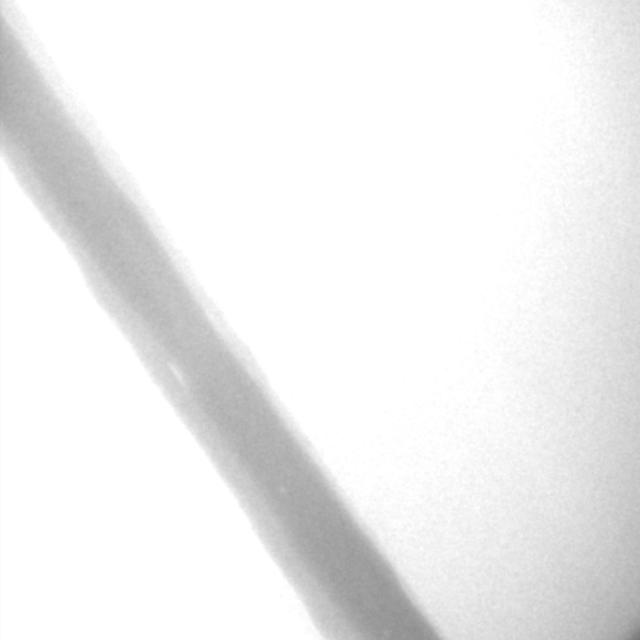air hole: (166, 361, 185, 385), (280, 484, 288, 496)
